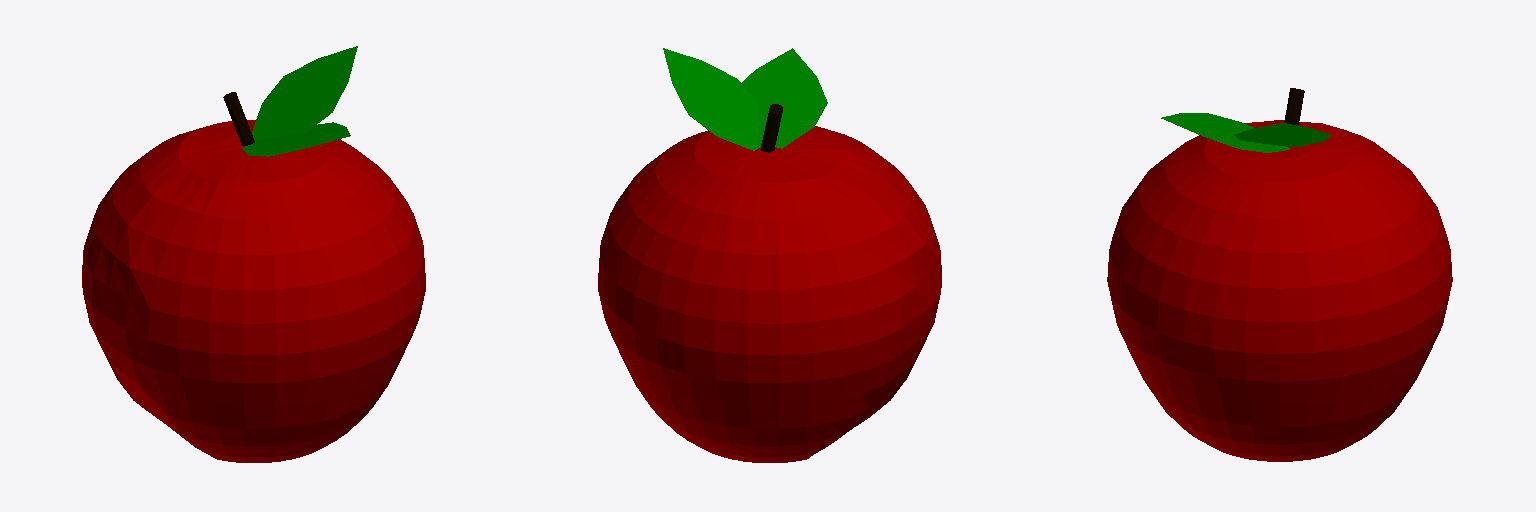
The model's file is apple.obj.
The picture shows the model from 3 angles: view 1: azimuth 30°, elevation 25°; view 2: azimuth 150°, elevation 25°; view 3: azimuth 270°, elevation 25°; orthographic projection.
Visible parts, largest first — view 1: Sphere_Sphere.003, Plane, Plane.001, Cylinder; view 2: Sphere_Sphere.003, Plane, Plane.001, Cylinder; view 3: Sphere_Sphere.003, Plane.001, Plane, Cylinder.
Part boxes in pixels (bbox=[...]): Sphere_Sphere.003: bbox=[82, 120, 425, 462]; Plane: bbox=[252, 46, 357, 140]; Plane.001: bbox=[242, 122, 350, 156]; Cylinder: bbox=[223, 92, 254, 145]; Sphere_Sphere.003: bbox=[598, 126, 941, 462]; Plane: bbox=[663, 48, 760, 150]; Plane.001: bbox=[741, 48, 827, 148]; Cylinder: bbox=[760, 104, 782, 152]; Sphere_Sphere.003: bbox=[1107, 120, 1452, 461]; Plane.001: bbox=[1161, 113, 1289, 152]; Plane: bbox=[1234, 123, 1331, 146]; Cylinder: bbox=[1284, 88, 1304, 125].
Size of the model in its own units: 4.94 by 5.88 by 5.